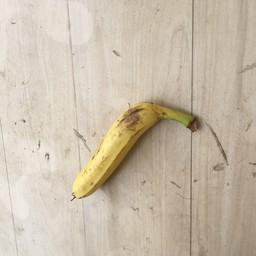Banana Ripe: (63, 91, 179, 223)
